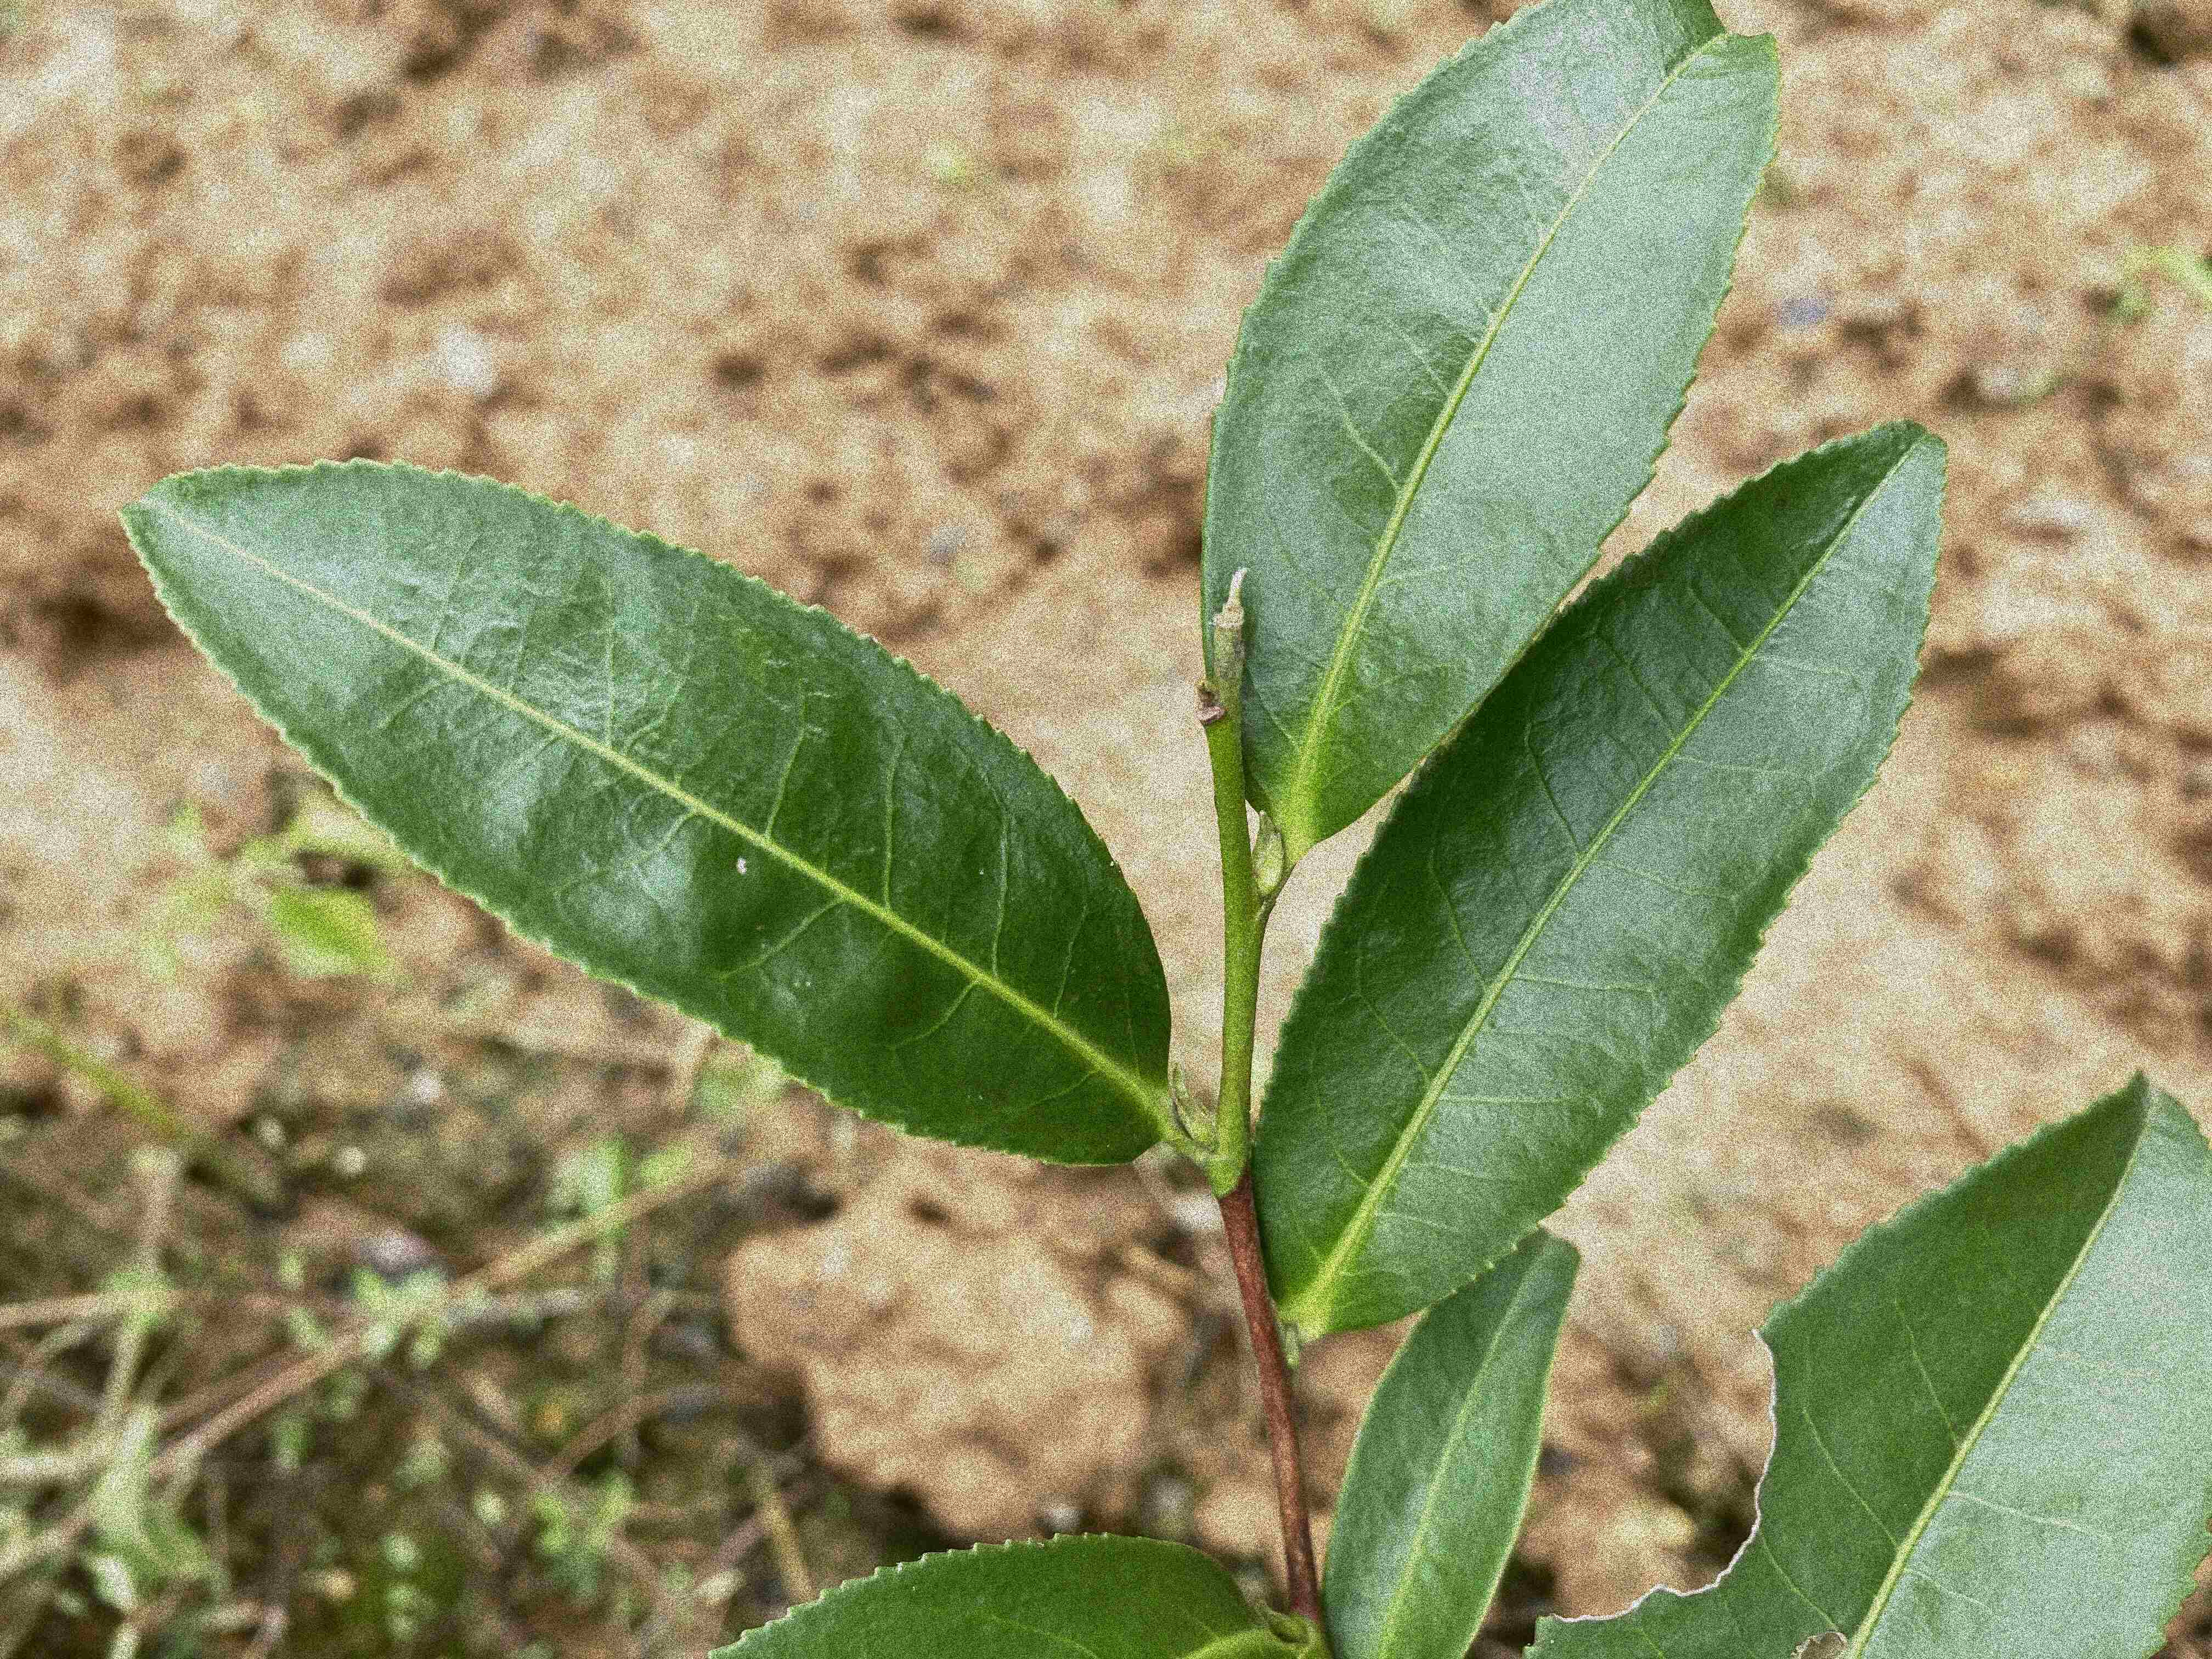chihuo_high: (1524, 1073, 2209, 1659)
healthy: (113, 458, 1170, 1166), (1251, 420, 1949, 1337), (1204, 2, 1785, 854), (1325, 1227, 1587, 1657)
